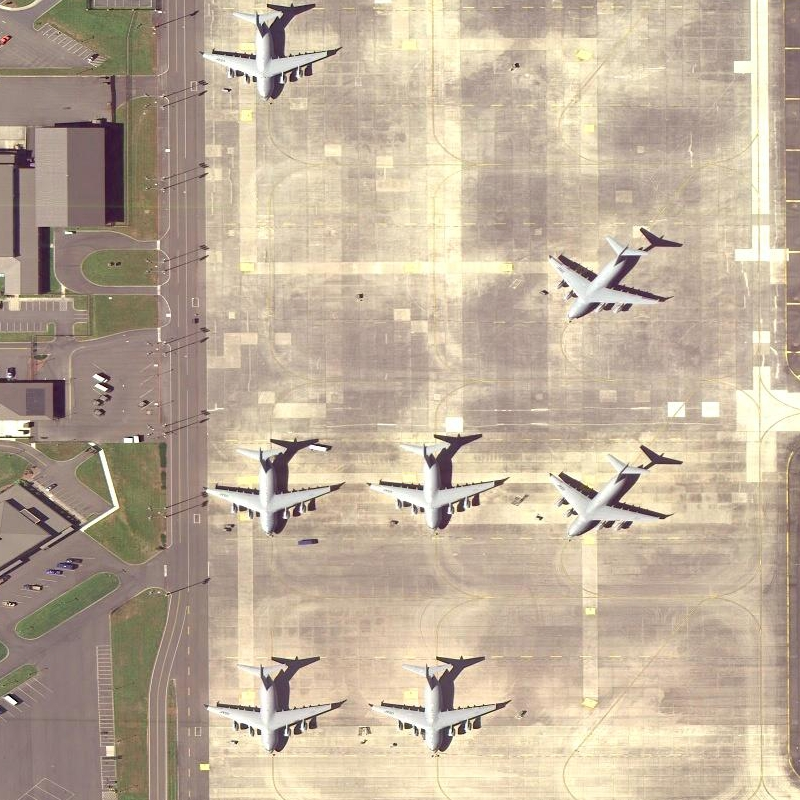A3: (366, 655, 507, 761), (200, 655, 337, 759), (193, 6, 335, 106), (541, 446, 675, 547), (367, 433, 499, 534), (543, 228, 670, 331), (198, 441, 340, 533)
